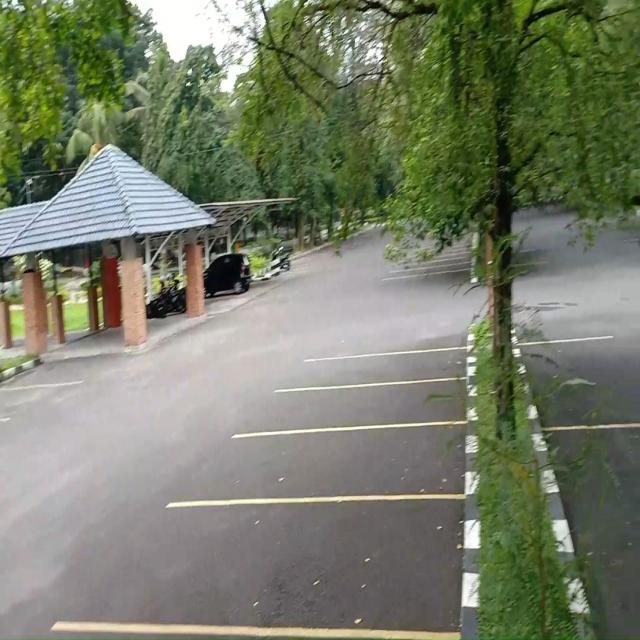empty: (174, 493, 462, 640), (255, 424, 465, 502), (281, 387, 466, 430), (308, 352, 466, 382)
